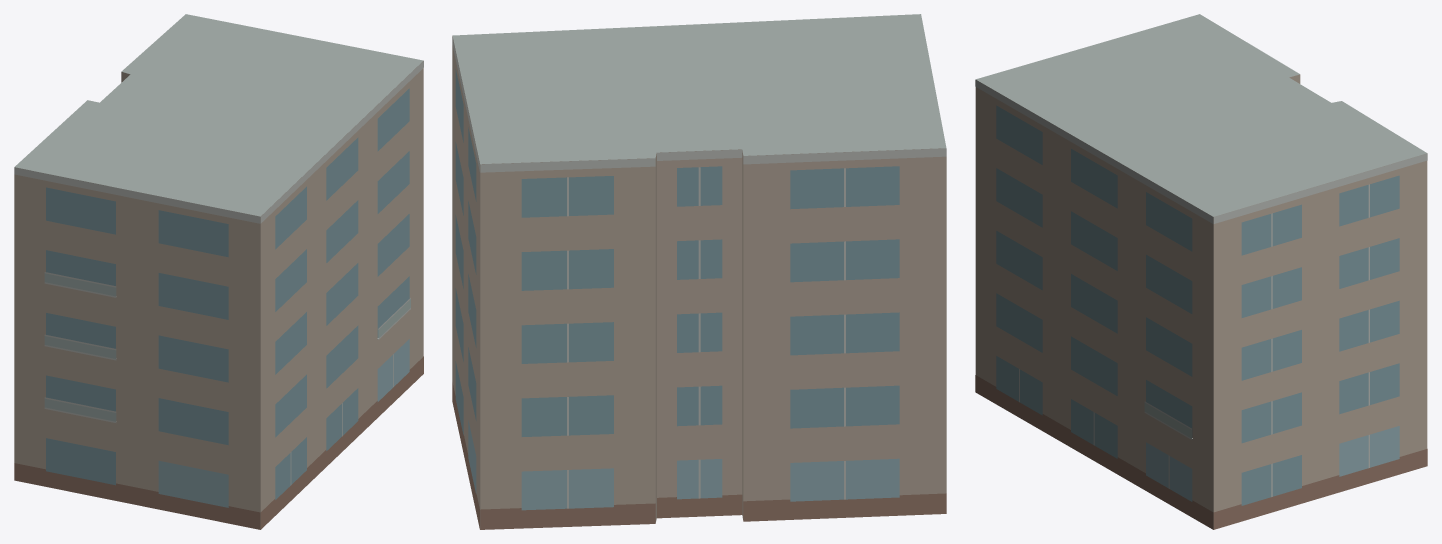
The model's file is survey-upis-32897611.glb.
3 renders of one model, left to right at view 1: azimuth 30°, elevation 25°; view 2: azimuth 150°, elevation 25°; view 3: azimuth 270°, elevation 25°, orthographic. The views are drawn at different scales.
Visible parts, largest first — view 1: survey-upis-32897611.tmp; view 2: survey-upis-32897611.tmp; view 3: survey-upis-32897611.tmp.
Part boxes in pixels (bbox=[...]): survey-upis-32897611.tmp: bbox=[14, 14, 423, 529]; survey-upis-32897611.tmp: bbox=[452, 14, 946, 529]; survey-upis-32897611.tmp: bbox=[975, 14, 1427, 529].
Bounding box in the file's own units: 14.61 × 10.5 × 13.75.
